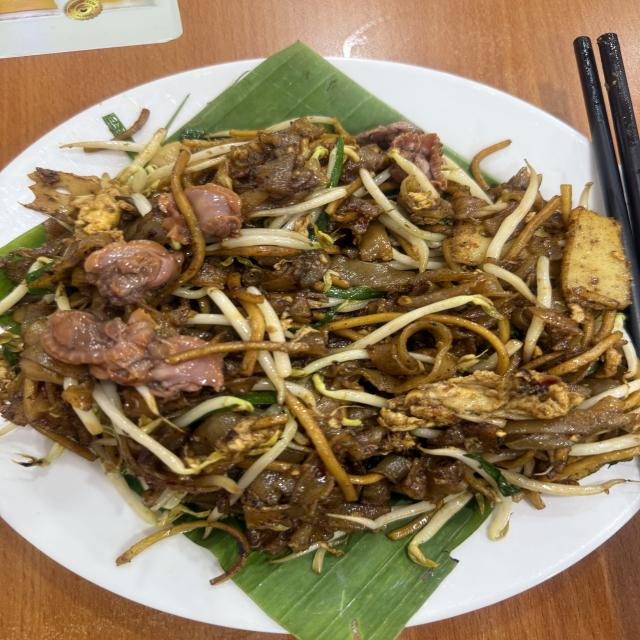Char Kway Teow: (12, 17, 632, 558)
